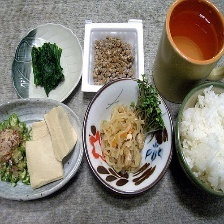rice: (179, 85, 224, 194)
